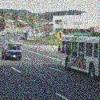buses: (57, 30, 100, 79)
